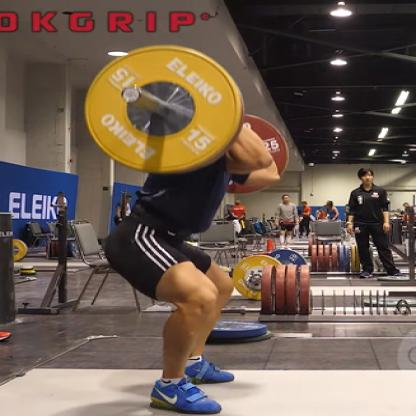Barbell: (78, 42, 251, 180)
